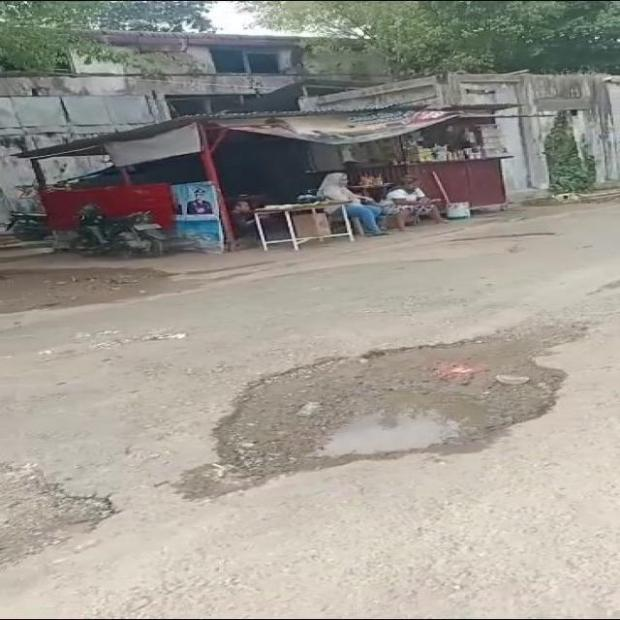lubang: (179, 324, 582, 498), (0, 463, 114, 564)
